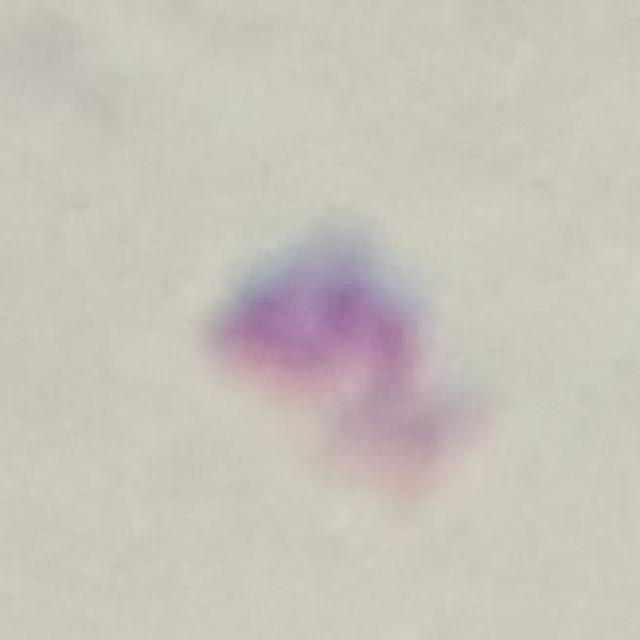non-sperm: (214, 244, 447, 482)
